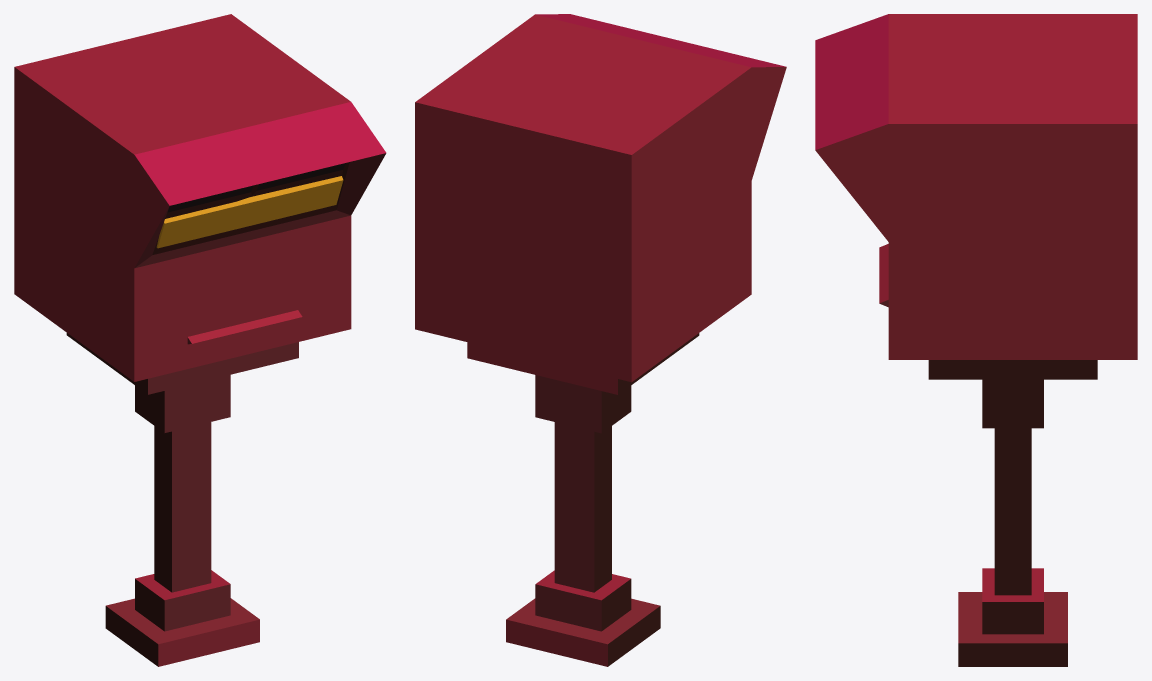
File: TB_CITY_Prop_Postbox_A.FBX
3 renders of one model, left to right at view 1: azimuth 30°, elevation 25°; view 2: azimuth 150°, elevation 25°; view 3: azimuth 270°, elevation 25°, orthographic. The views are drawn at different scales.
Parts seen in each view (by area): view 1: TB_CITY_Prop_Postbox_A; view 2: TB_CITY_Prop_Postbox_A; view 3: TB_CITY_Prop_Postbox_A.
Part boxes in pixels (x1,y1,x2,y2): TB_CITY_Prop_Postbox_A: (14,14,386,666); TB_CITY_Prop_Postbox_A: (415,14,786,666); TB_CITY_Prop_Postbox_A: (815,14,1137,666).
Bounding box in the file's own units: 0.9204 × 2.23 × 1.14.
